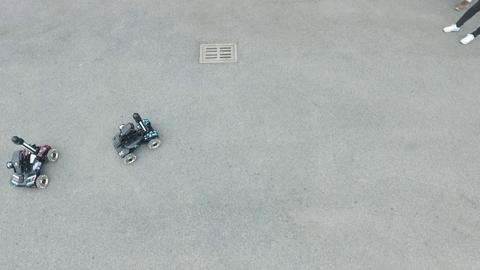chariot: (3, 135, 61, 190), (109, 114, 163, 166)
